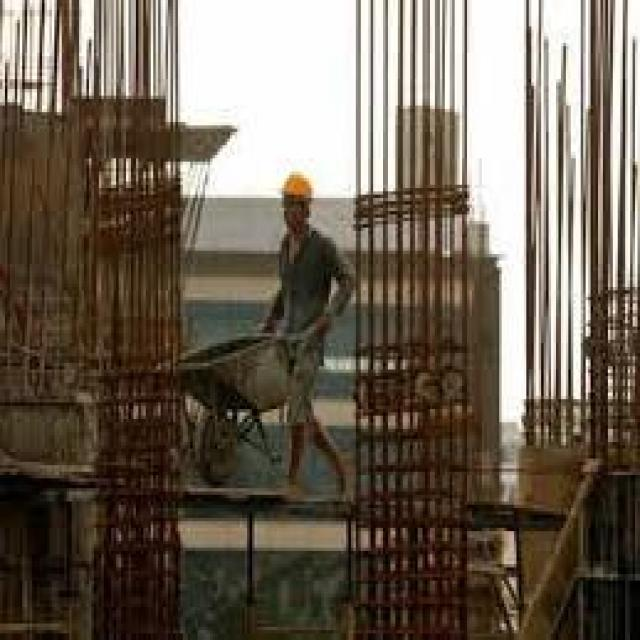Safety-Helmet: (269, 158, 324, 218)
